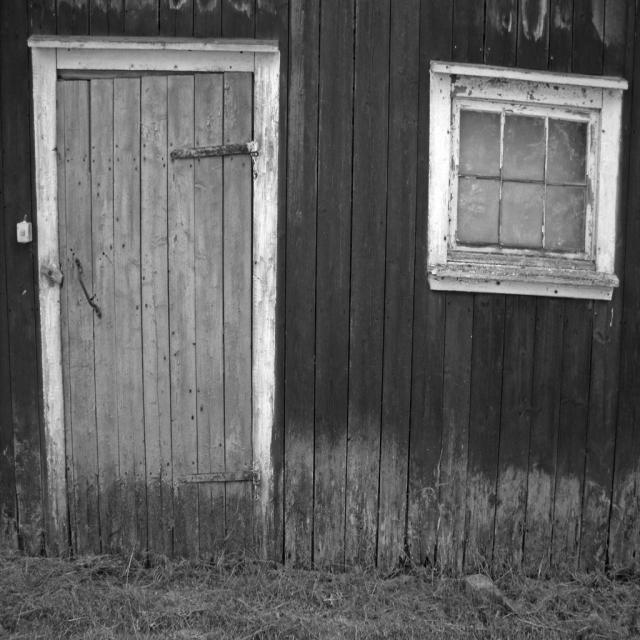doorhandle: (59, 82, 252, 550), (74, 259, 101, 320)
